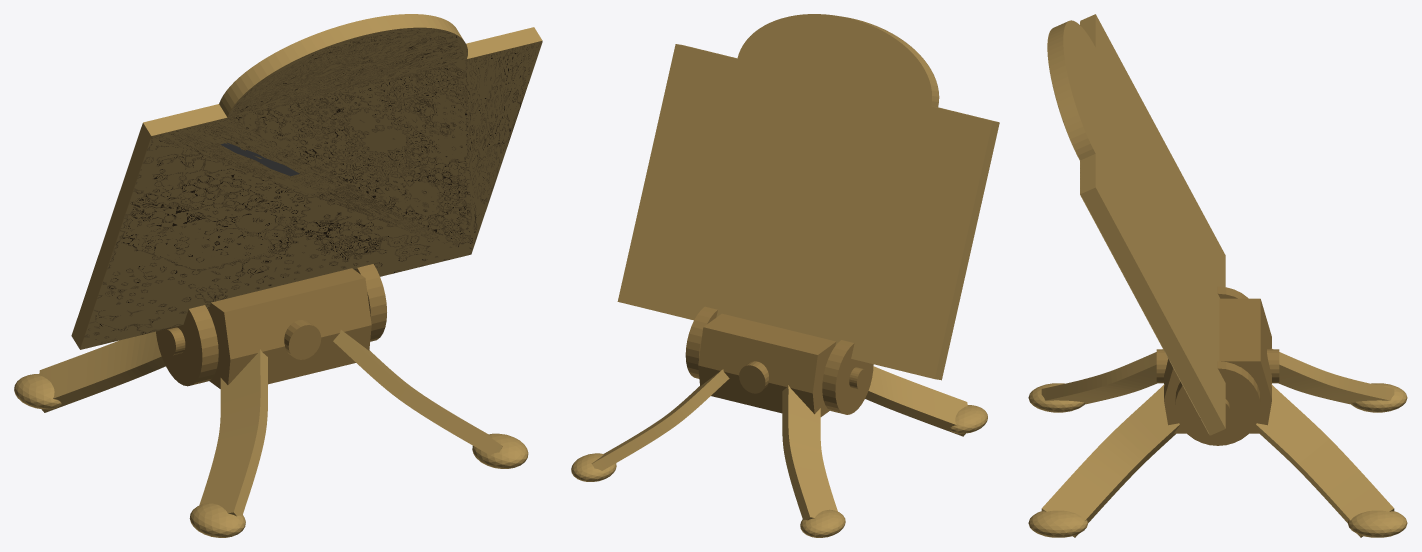
Rendered from clip_stand.obj.
3 views of the same model, side by side, from view 1: azimuth 30°, elevation 25°; view 2: azimuth 150°, elevation 25°; view 3: azimuth 270°, elevation 25° (orthographic). The views are drawn at different scales.
Parts seen in each view (by area): view 1: plate_engraving, clip_0, handle_back_0, plate_body, handle_front_0, clip_2, handle_back_1, clip_4, handle_back_2, handle_front_1, clip_7; view 2: plate_body, clip_0, handle_front_0, handle_back_0, clip_2, clip_4, handle_front_1, handle_front_2, handle_back_1, clip_6; view 3: plate_body, handle_front_0, handle_back_0, clip_0, clip_4, handle_front_2, handle_back_2, handle_front_1, handle_back_1, plate_engraving.
Part boxes in pixels (x1=…): plate_engraving: x1=80, y1=28, x2=542, y2=349; clip_0: x1=208, y1=268, x2=371, y2=388; handle_back_0: x1=199, y1=330, x2=502, y2=516; plate_body: x1=71, y1=14, x2=542, y2=349; handle_front_0: x1=39, y1=331, x2=165, y2=412; clip_2: x1=156, y1=305, x2=218, y2=386; handle_back_1: x1=189, y1=503, x2=245, y2=537; clip_4: x1=356, y1=264, x2=386, y2=341; handle_back_2: x1=472, y1=433, x2=528, y2=468; handle_front_1: x1=14, y1=374, x2=61, y2=409; clip_7: x1=284, y1=320, x2=321, y2=359; plate_body: x1=617, y1=14, x2=999, y2=380; clip_0: x1=698, y1=313, x2=836, y2=416; handle_front_0: x1=591, y1=369, x2=837, y2=520; handle_back_0: x1=865, y1=366, x2=967, y2=436; clip_2: x1=822, y1=340, x2=873, y2=414; clip_4: x1=685, y1=306, x2=717, y2=378; handle_front_1: x1=800, y1=509, x2=845, y2=537; handle_front_2: x1=571, y1=453, x2=616, y2=481; handle_back_1: x1=949, y1=405, x2=987, y2=433; clip_6: x1=739, y1=361, x2=768, y2=393; plate_body: x1=1048, y1=14, x2=1225, y2=435; handle_front_0: x1=1256, y1=348, x2=1394, y2=537; handle_back_0: x1=1041, y1=352, x2=1179, y2=537; clip_0: x1=1164, y1=298, x2=1271, y2=433; clip_4: x1=1175, y1=361, x2=1260, y2=445; handle_front_2: x1=1347, y1=510, x2=1407, y2=537; handle_back_2: x1=1028, y1=510, x2=1088, y2=537; handle_front_1: x1=1350, y1=383, x2=1407, y2=412; handle_back_1: x1=1028, y1=383, x2=1085, y2=412; plate_engraving: x1=1047, y1=22, x2=1209, y2=434.
Bounding box in the file's own units: 1.44 × 1.67 × 1.33.
